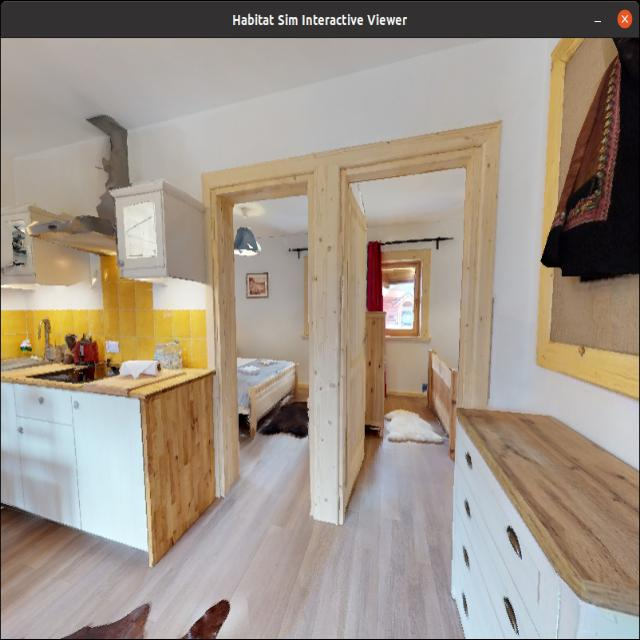door-frame: (318, 121, 500, 521), (206, 173, 334, 508)
